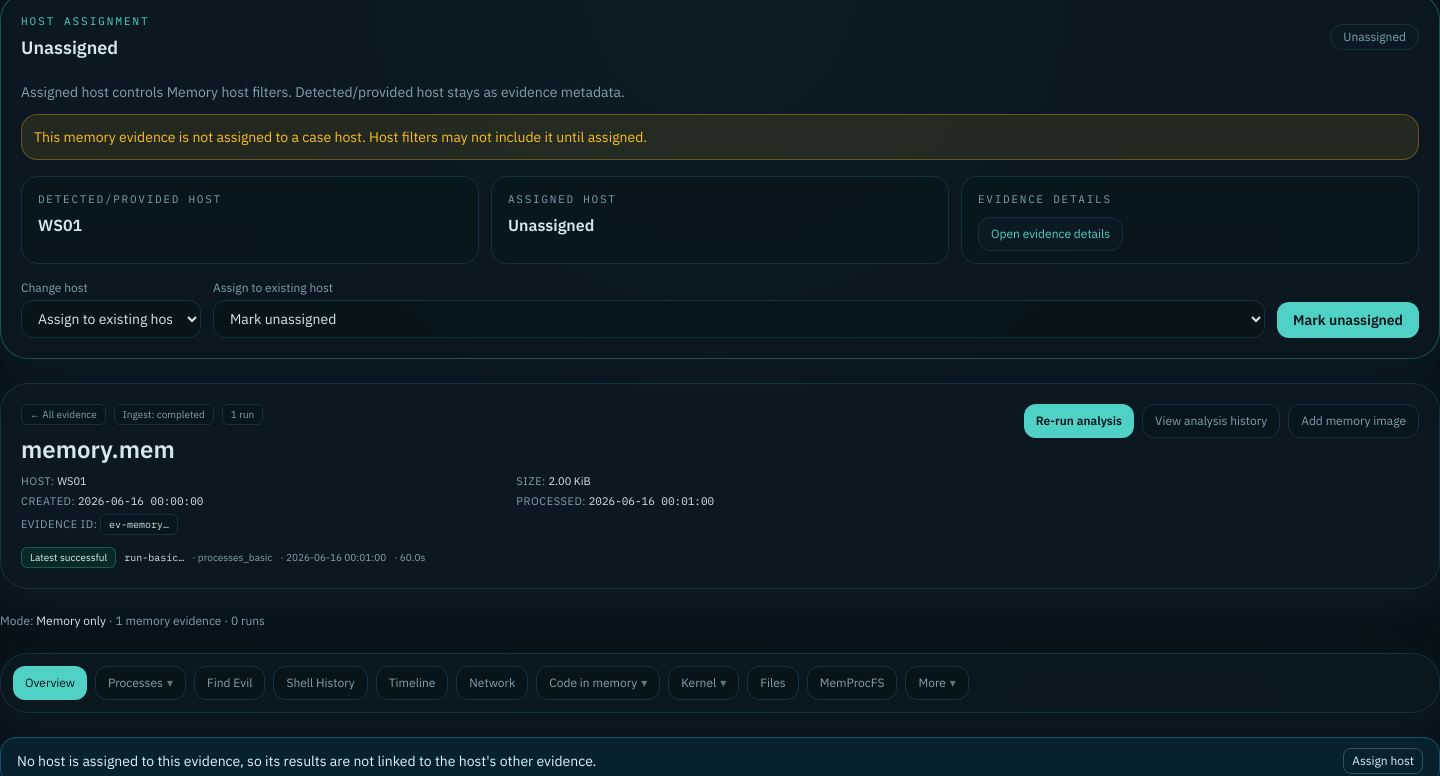
it: Memory analysis UX fixes v1 › closes the modal with Escape and restores focus
Click the tab "Processes▾" at (141, 682), box [95, 666, 186, 700]
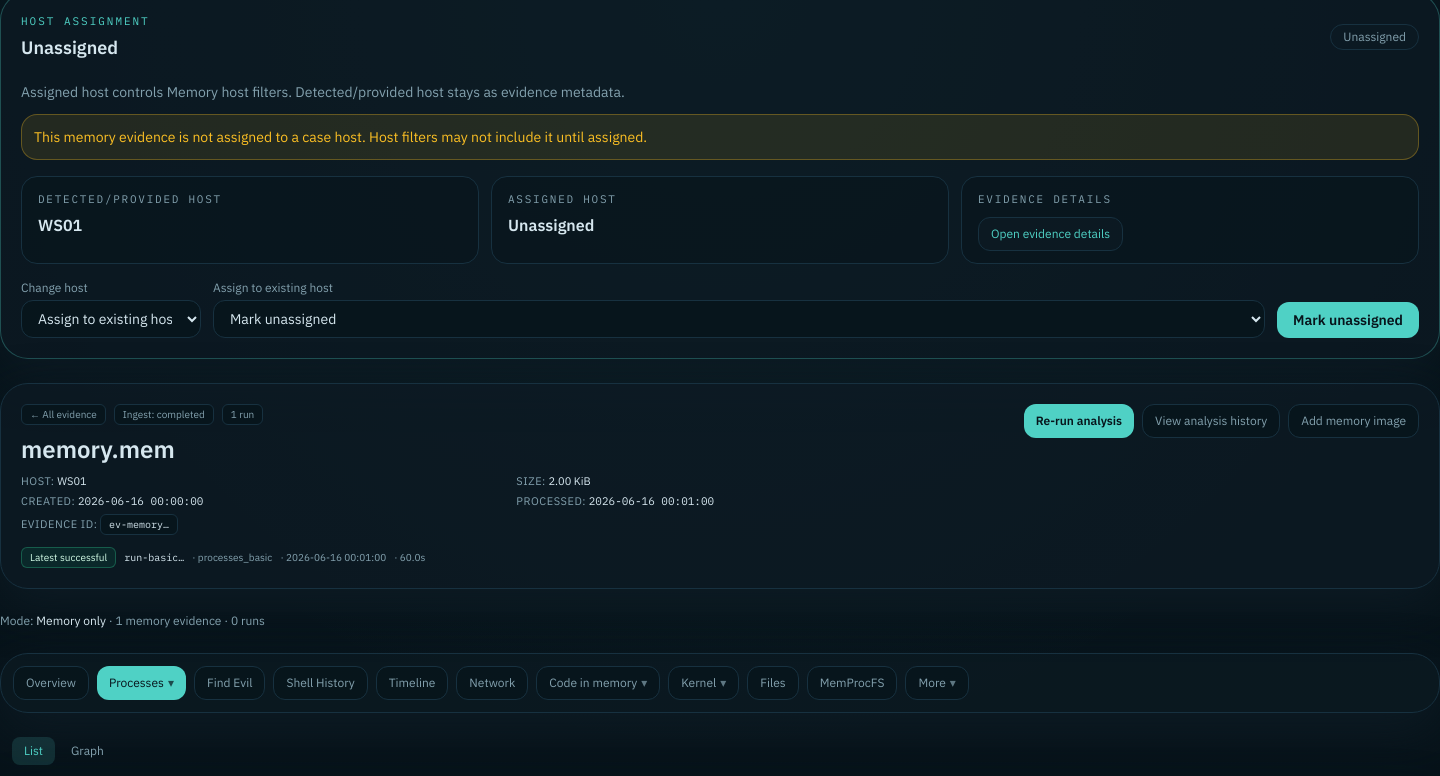
Click the tab with test id "memory-tab-processes" at (34, 750), box [12, 736, 55, 764]
(page scrolled)
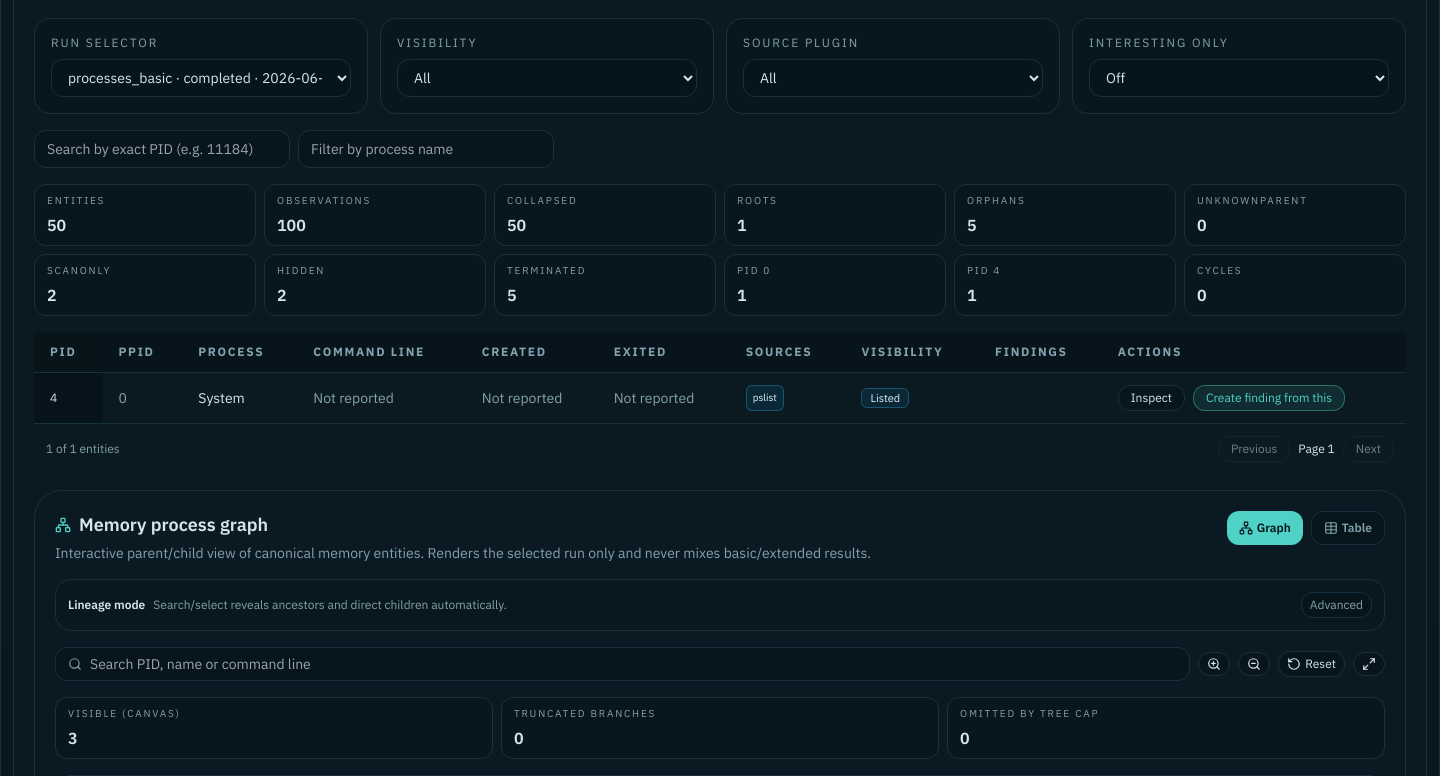
Click the button "Inspect" at (1151, 398), box [1118, 384, 1185, 410]
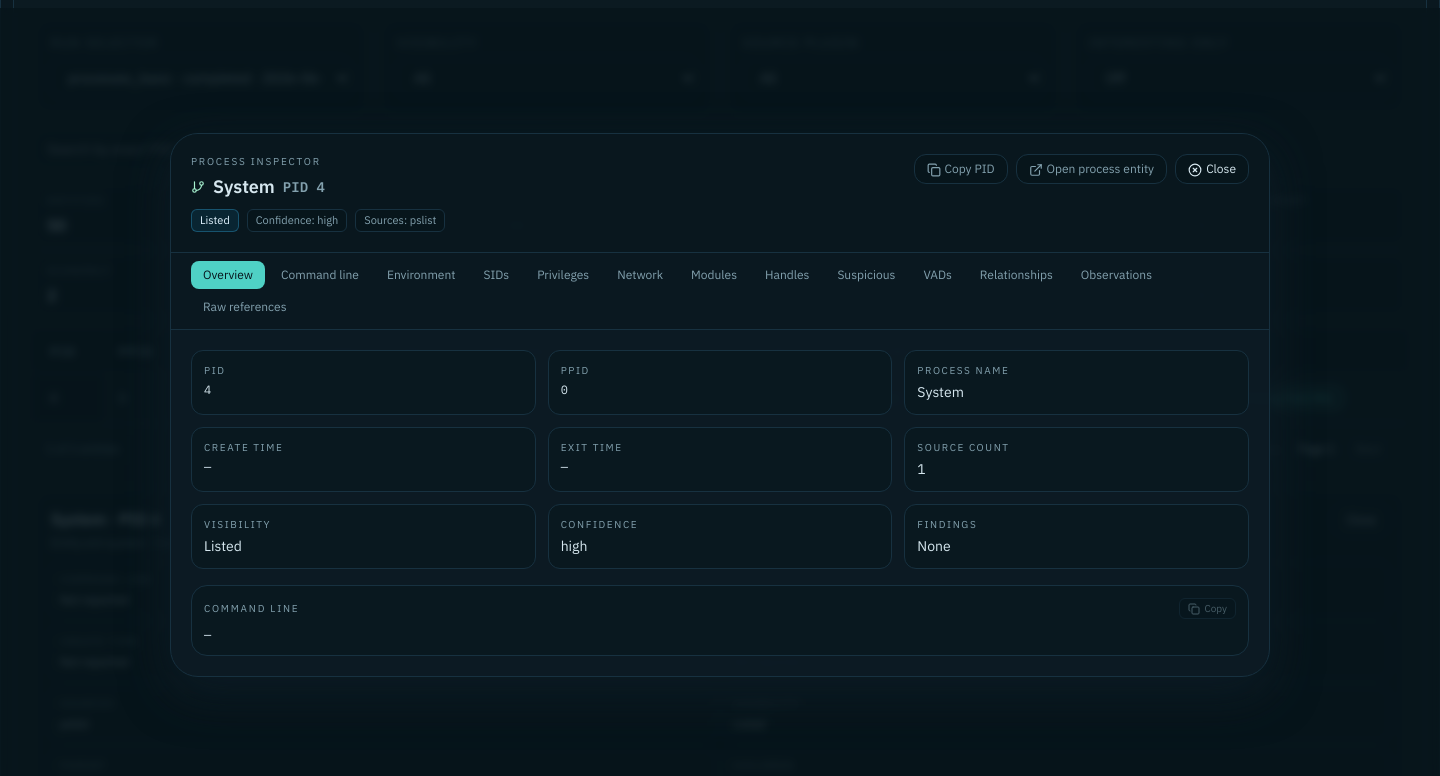
expect the dialog with test id "process-detail-modal" is shown: met, box [170, 133, 1270, 677]
Press Escape
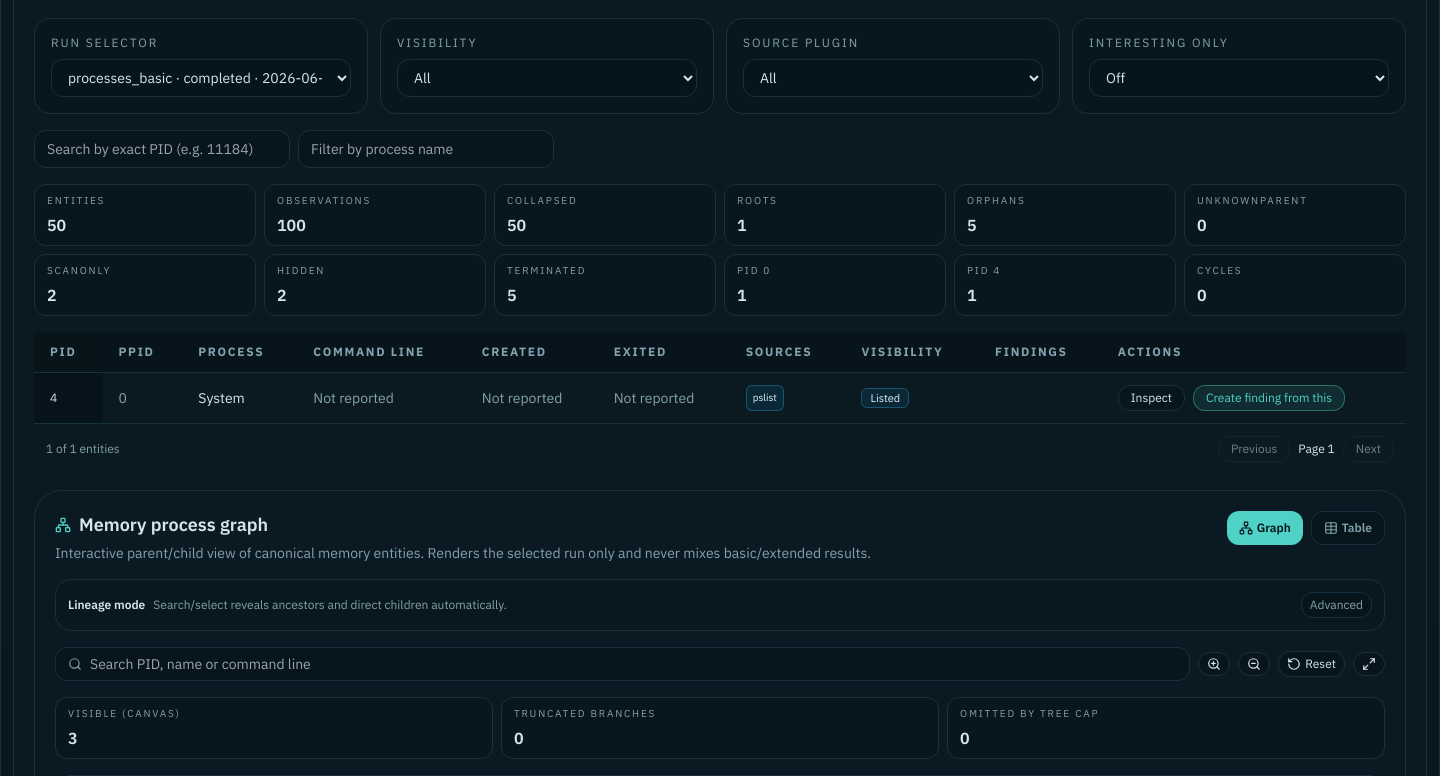
expect the dialog with test id "process-detail-modal" is gone: met
